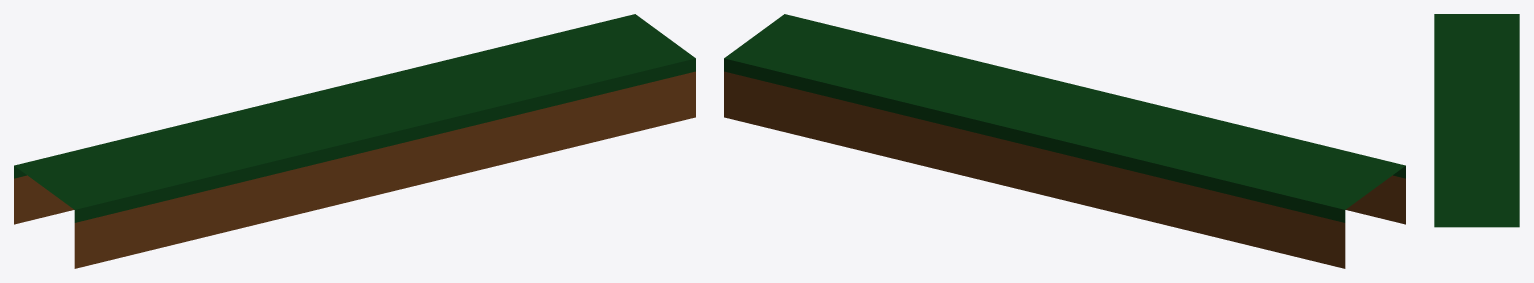
The model's file is terreno_plano.fbx.
3 views of the same model, side by side, from view 1: azimuth 30°, elevation 25°; view 2: azimuth 150°, elevation 25°; view 3: azimuth 270°, elevation 25° (orthographic). The views are drawn at different scales.
Parts seen in each view (by area): view 1: terrenoplano; view 2: terrenoplano; view 3: terrenoplano.
Part boxes in pixels (x1,y1,x2,y2): terrenoplano: [14, 14, 695, 268]; terrenoplano: [724, 14, 1405, 268]; terrenoplano: [1434, 14, 1519, 227].
Size of the model in its own units: 2203 by 200 by 372.
